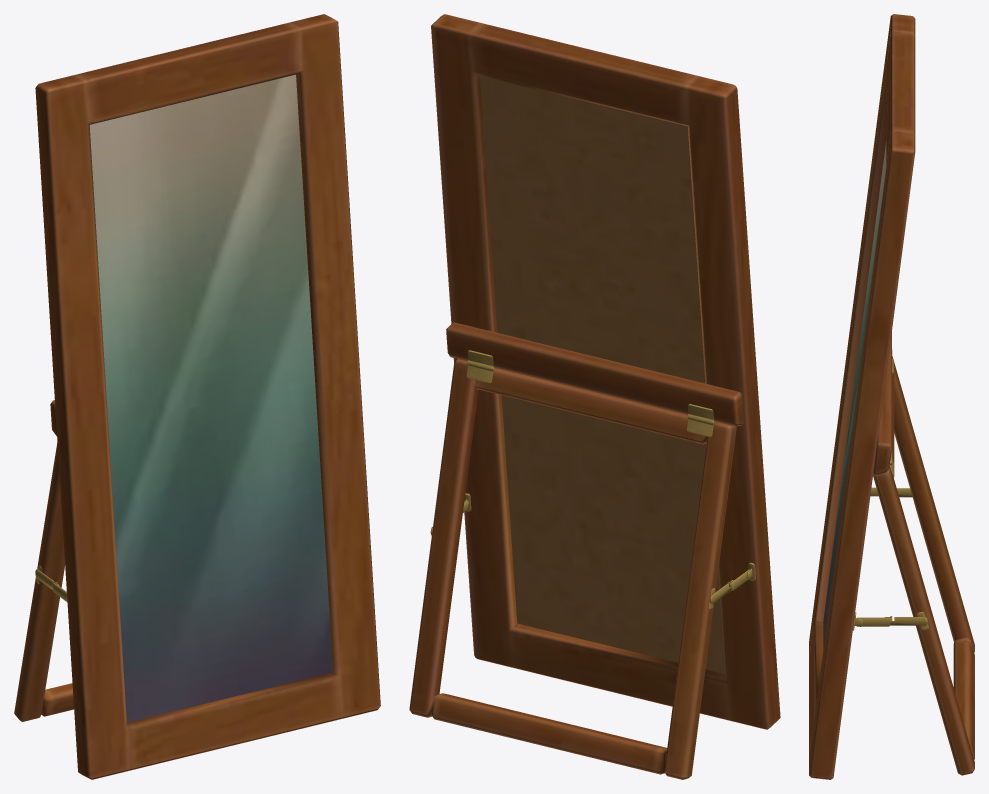
3 renders of one model, left to right at view 1: azimuth 30°, elevation 25°; view 2: azimuth 150°, elevation 25°; view 3: azimuth 270°, elevation 25°, orthographic. The views are drawn at different scales.
Size of the model in its own units: 8.38 by 18.1 by 4.3.
Materials: 2 (2 with a texture image).
